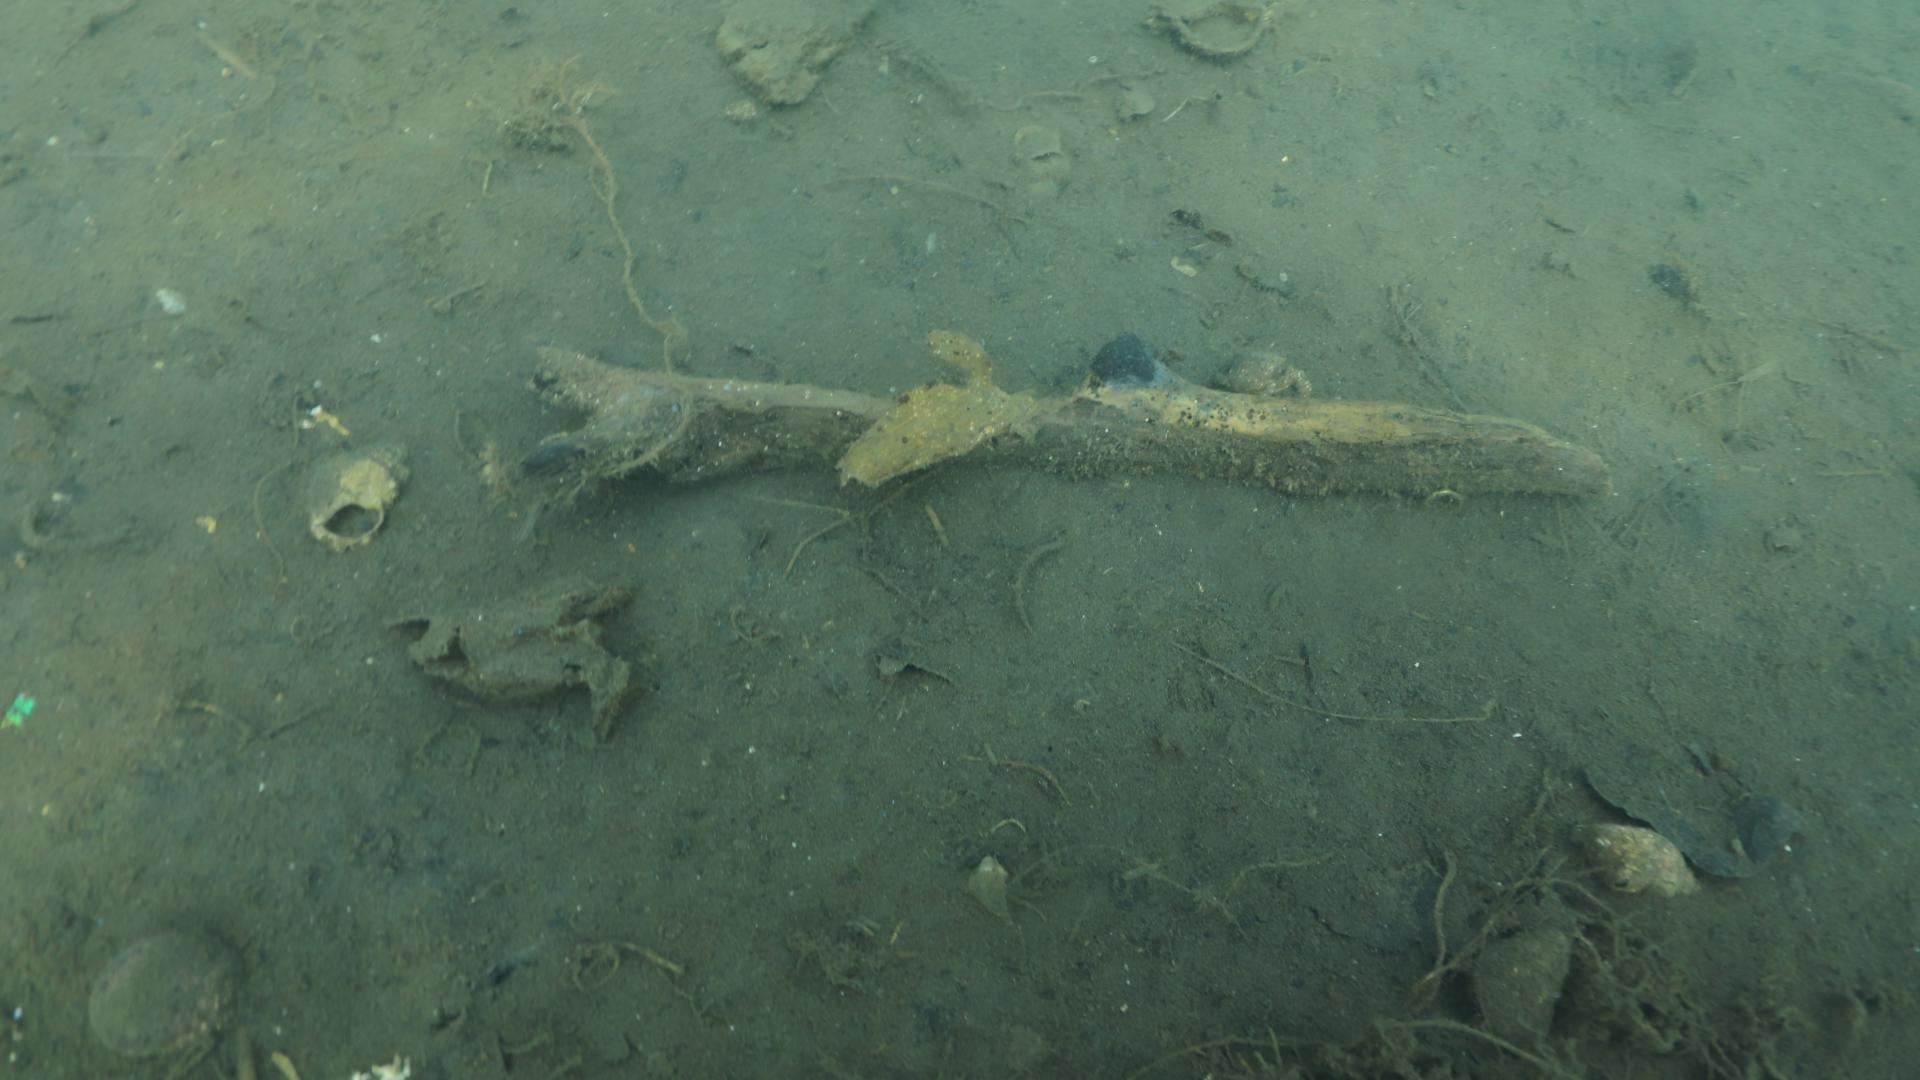wood: (514, 342, 1611, 500)
